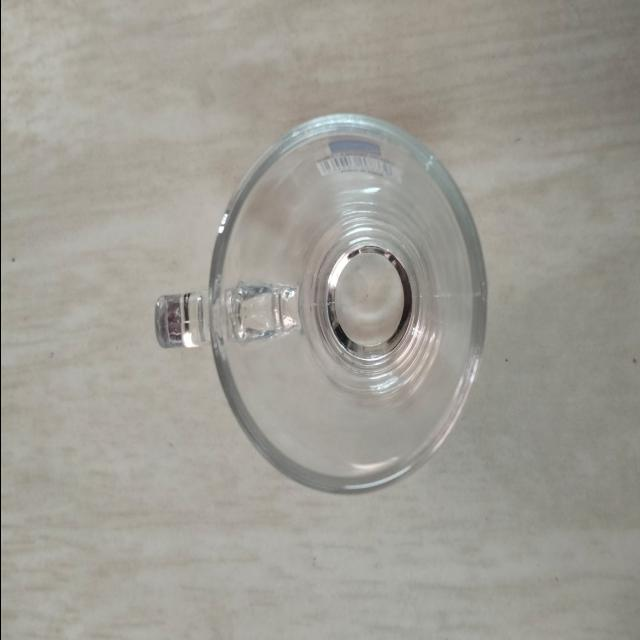glass-VX4N: (154, 110, 490, 500)
